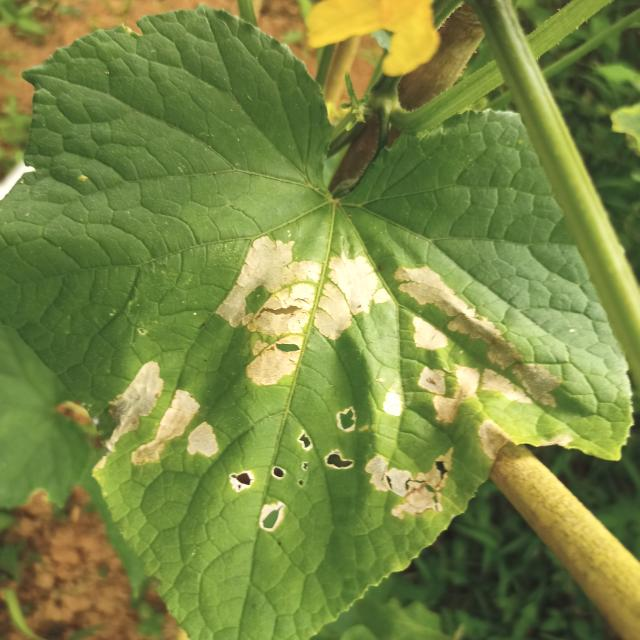disease_cucumber: (96, 233, 560, 530)
